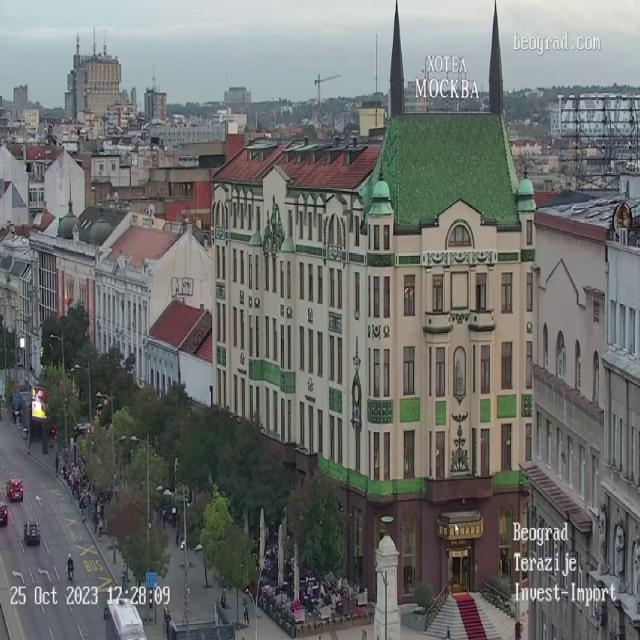bus: (103, 595, 149, 640)
car: (23, 520, 40, 545), (8, 478, 22, 501), (0, 500, 8, 526)
